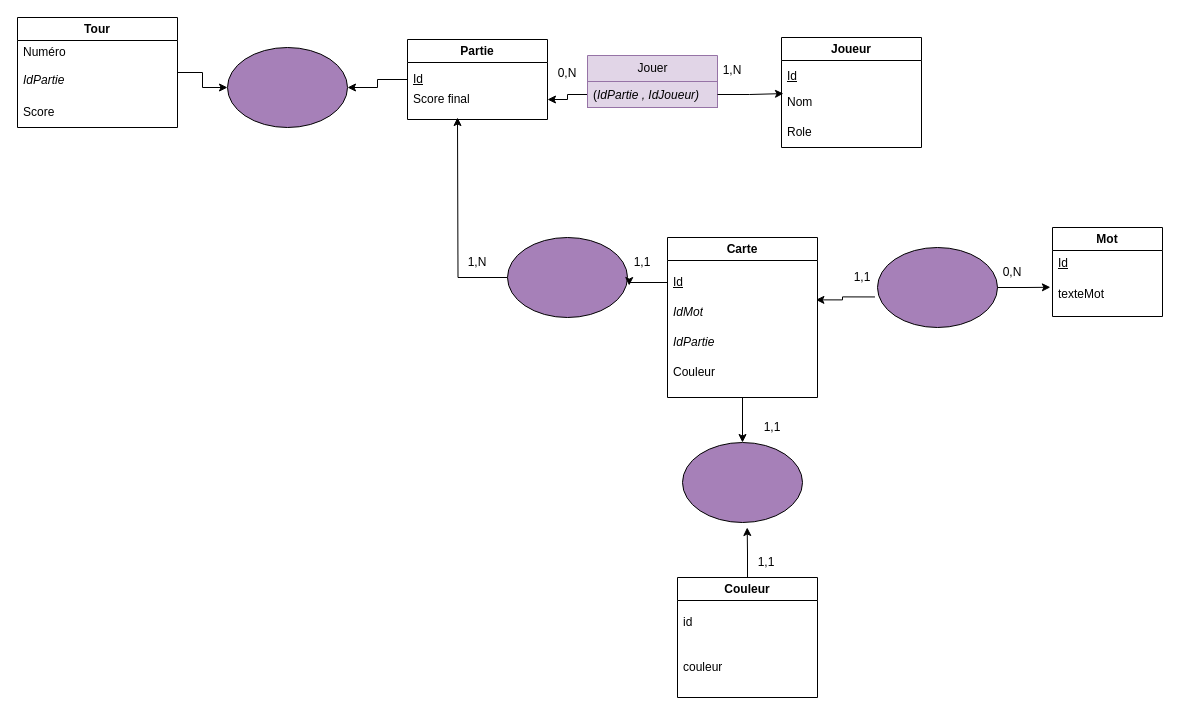
This 1180x715 diagram has some shape labels left out. Here are the shapes that lost their labels. From the top down, the centre of each, then its label:
At pixel 287 87: "Appartenir".
At pixel 567 277: "Obtenir".
At pixel 937 287: "Contenir".
At pixel 742 482: "Avoir".
